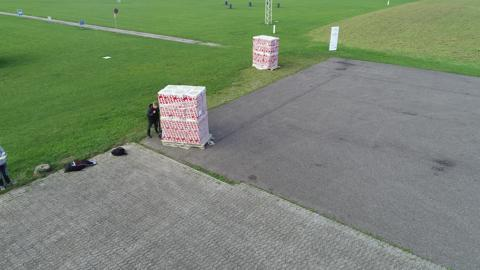RockwoolPallet: (157, 83, 215, 149)
